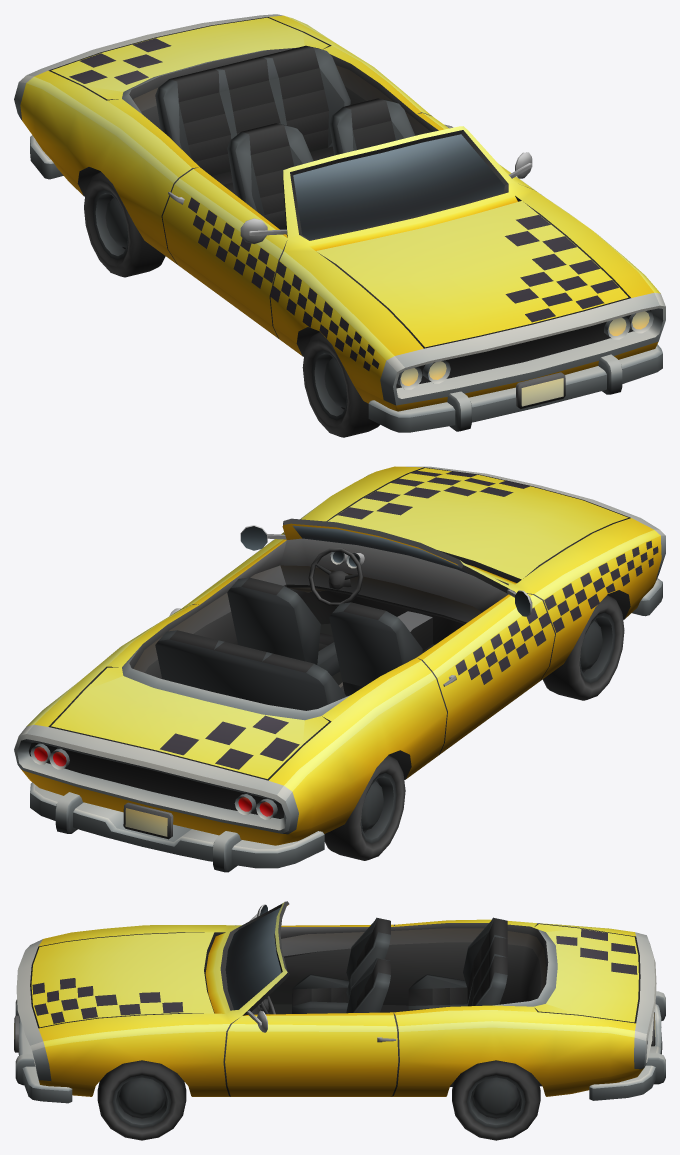
Rendered from Car_23A.fbx.
The picture shows the model from 3 angles, top to bottom: view 1: azimuth 30°, elevation 25°; view 2: azimuth 150°, elevation 25°; view 3: azimuth 270°, elevation 25°; orthographic projection. The views are drawn at different scales.
Parts seen in each view (by area): view 1: Car_23A, Car_23A_Bench, Car_23A_Seat.R, Wheel_23A_R.R, Wheel_23A_F.R, Car_23A_Seat.L; view 2: Car_23A, Car_23A_Bench, Car_23A_Seat.L, Car_23A_Seat.R, Wheel_23A_R.R, Wheel_23A_F.R, Car_23A_Steering_Wheel; view 3: Car_23A, Wheel_23A_F.L, Wheel_23A_R.L, Car_23A_Bench, Car_23A_Seat.R, Car_23A_Seat.L.
Boxes of the visible parts, x1,y1,x2,y2 form: Car_23A: (14, 14, 665, 432); Car_23A_Bench: (155, 45, 350, 193); Car_23A_Seat.R: (227, 123, 313, 229); Wheel_23A_R.R: (84, 172, 165, 277); Wheel_23A_F.R: (302, 332, 379, 437); Car_23A_Seat.L: (329, 98, 415, 155); Car_23A: (14, 466, 665, 872); Car_23A_Bench: (155, 630, 346, 710); Car_23A_Seat.L: (227, 577, 339, 675); Car_23A_Seat.R: (329, 602, 422, 696); Wheel_23A_R.R: (324, 755, 405, 860); Wheel_23A_F.R: (542, 595, 624, 700); Car_23A_Steering_Wheel: (308, 548, 363, 606); Car_23A: (14, 901, 665, 1103); Wheel_23A_F.L: (97, 1060, 186, 1140); Wheel_23A_R.L: (452, 1060, 540, 1140); Car_23A_Bench: (408, 917, 507, 1010); Car_23A_Seat.R: (292, 917, 390, 1013); Car_23A_Seat.L: (346, 958, 390, 1013).
Bounding box in the file's own units: 257 × 165 × 617.
